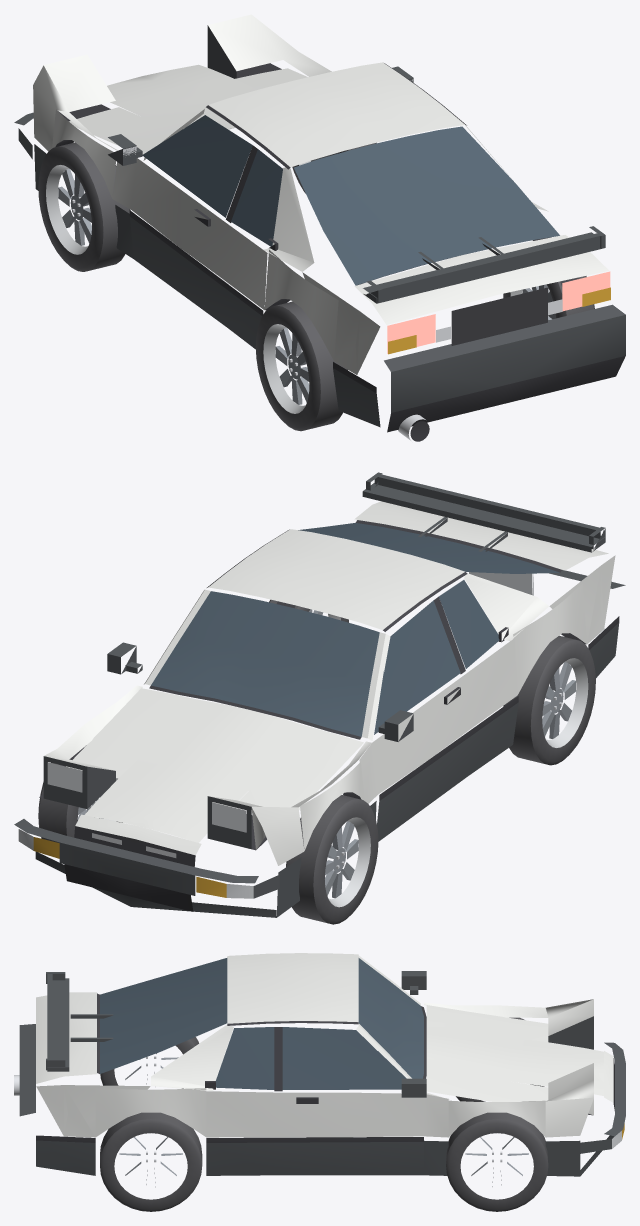
The picture shows the model from 3 angles, top to bottom: view 1: azimuth 30°, elevation 25°; view 2: azimuth 150°, elevation 25°; view 3: azimuth 270°, elevation 25°; orthographic projection. The views are drawn at different scales.
Visible parts, largest first — view 1: BodyShell, wheel_fl, wheel_rl, ActiveRearAero, BrakeLights6, wheel_rr; view 2: BodyShell, wheel_fl, wheel_rl, ActiveRearAero, wheel_fr; view 3: BodyShell, wheel_rr, wheel_fr, ActiveRearAero, wheel_rl.
Boxes of the visible parts, <box> form: BodyShell: <box>14,14,625,441</box>; wheel_fl: <box>38,142,130,271</box>; wheel_rl: <box>255,301,347,431</box>; ActiveRearAero: <box>363,226,605,303</box>; BrakeLights6: <box>387,271,610,353</box>; wheel_rr: <box>503,276,594,320</box>; BodyShell: <box>14,501,625,917</box>; wheel_fl: <box>286,795,378,924</box>; wheel_rl: <box>503,635,595,765</box>; ActiveRearAero: <box>362,472,605,552</box>; wheel_fr: <box>38,762,122,842</box>; BodyShell: <box>14,953,625,1176</box>; wheel_rr: <box>100,1112,202,1211</box>; wheel_fr: <box>446,1112,548,1211</box>; ActiveRearAero: <box>46,972,69,1071</box>; wheel_rl: <box>100,1037,198,1088</box>.
Size of the model in its own units: 1.93 by 1.39 by 4.42.
